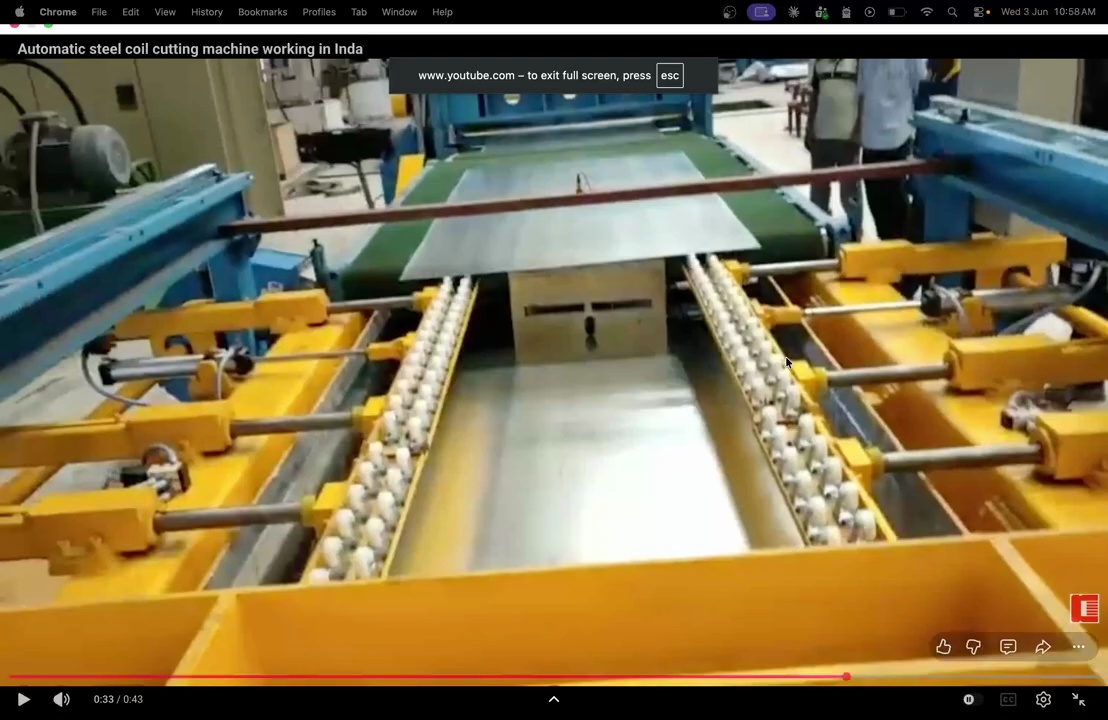steel plate: (401, 195, 759, 279), (480, 127, 663, 151)
